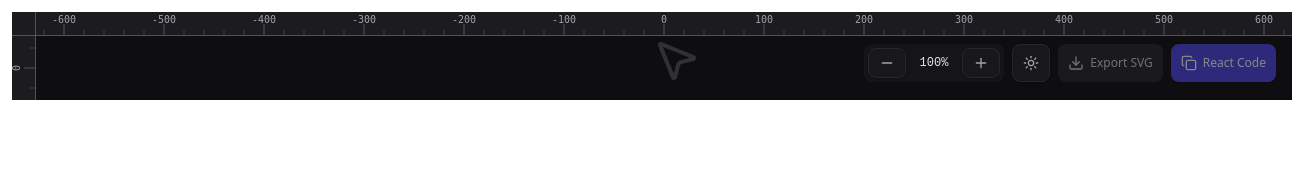
it: Canvas › zoom controls › increases zoom when Zoom In is clicked
This screenshot has width=1304, height=172.
Click the button titled "Zoom In" at (981, 63), box [962,48,1000,78]
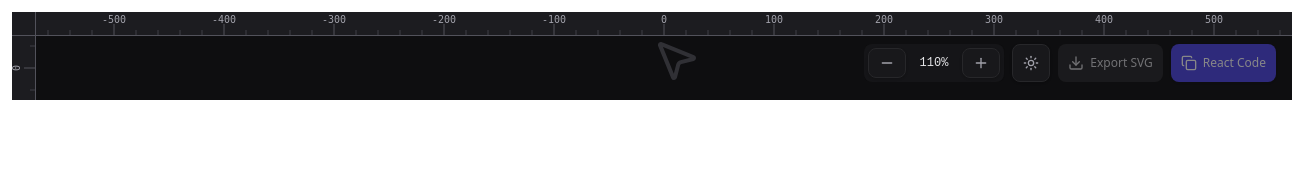
Result: the button titled "Reset Zoom" reads "110%" at [910,49,958,77]
